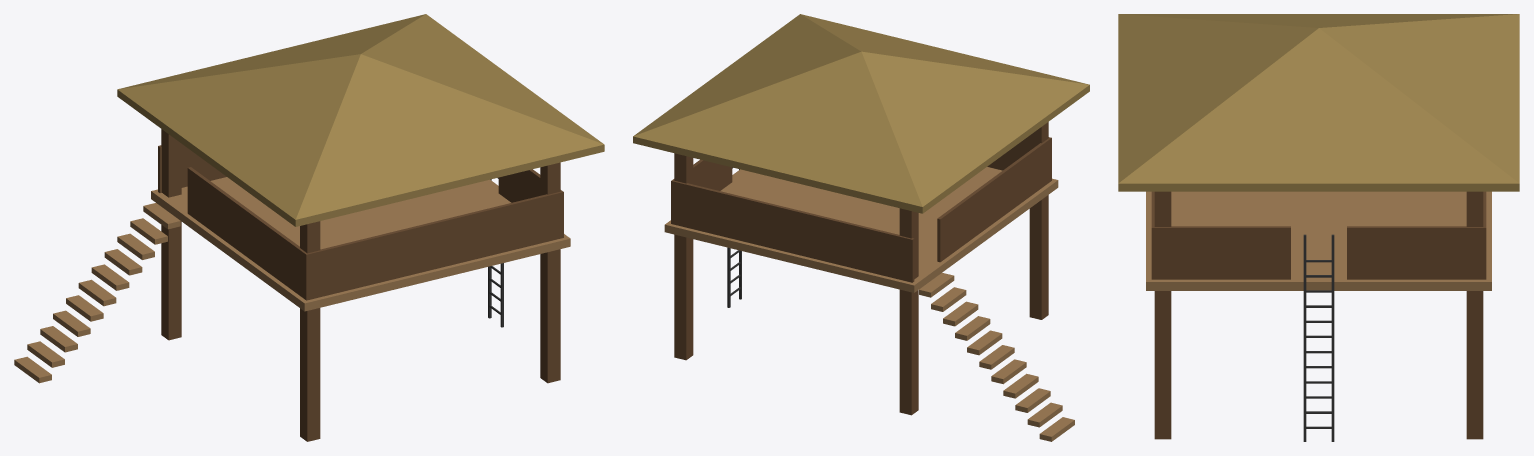
File: mirante_a.glb
3 renders of one model, left to right at view 1: azimuth 30°, elevation 25°; view 2: azimuth 150°, elevation 25°; view 3: azimuth 270°, elevation 25°, orthographic. The views are drawn at different scales.
Visible parts, largest first — view 1: mirante_a; view 2: mirante_a; view 3: mirante_a.
Boxes of the visible parts, <box> form: mirante_a: <box>14,14,604,441</box>; mirante_a: <box>633,14,1089,441</box>; mirante_a: <box>1118,14,1519,441</box>.
Size of the model in its own units: 10 by 6.76 by 7.2.
